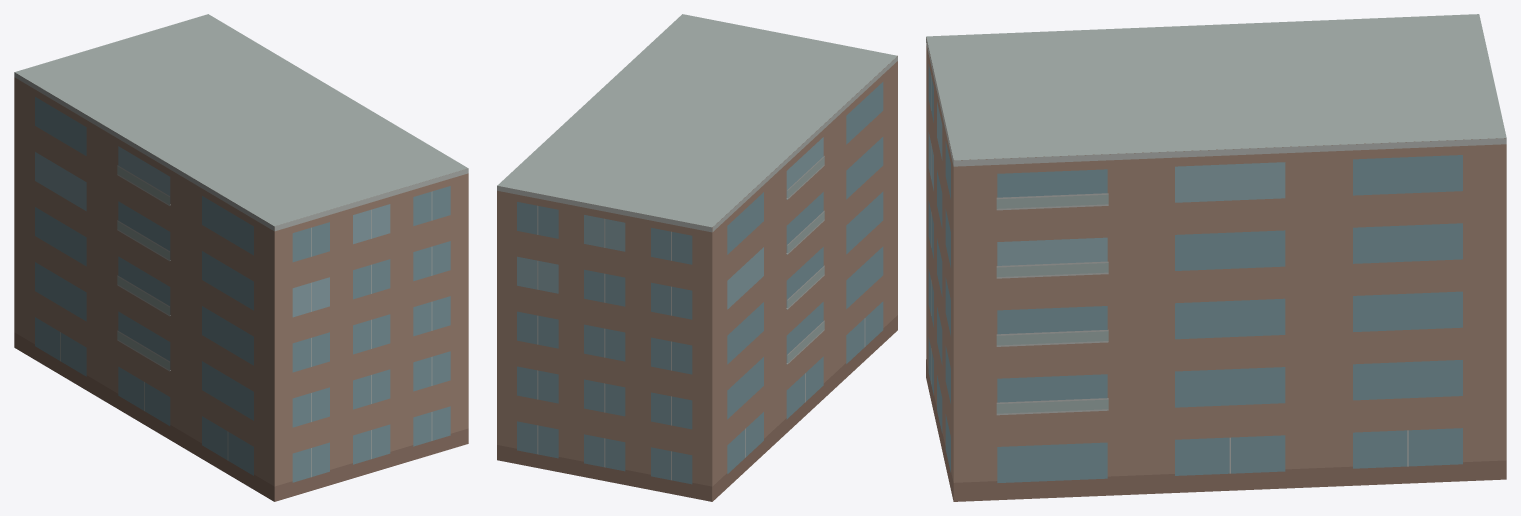
Rendered from survey-upis-32674510.glb.
3 renders of one model, left to right at view 1: azimuth 30°, elevation 25°; view 2: azimuth 150°, elevation 25°; view 3: azimuth 270°, elevation 25°, orthographic. The views are drawn at different scales.
Parts seen in each view (by area): view 1: survey-upis-32674510.tmp; view 2: survey-upis-32674510.tmp; view 3: survey-upis-32674510.tmp.
Boxes of the visible parts, <box> form: survey-upis-32674510.tmp: <box>14,14,468,501</box>; survey-upis-32674510.tmp: <box>497,14,897,501</box>; survey-upis-32674510.tmp: <box>926,14,1506,501</box>.
Size of the model in its own units: 12.29 by 13.35 by 20.58.
